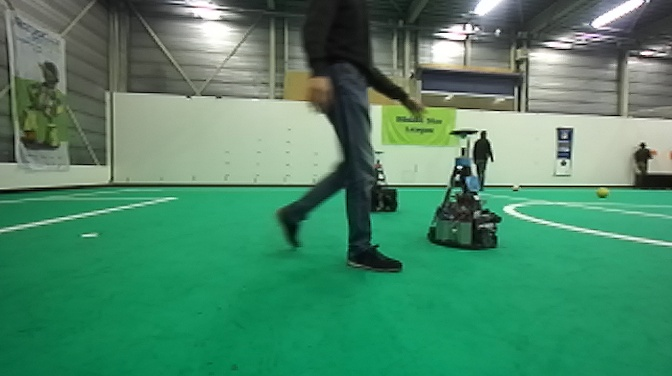ball: (595, 184, 610, 200), (510, 182, 521, 192)
human: (270, 1, 430, 274), (469, 128, 495, 191), (632, 140, 654, 191)
robot: (425, 129, 503, 253), (358, 150, 399, 214)
